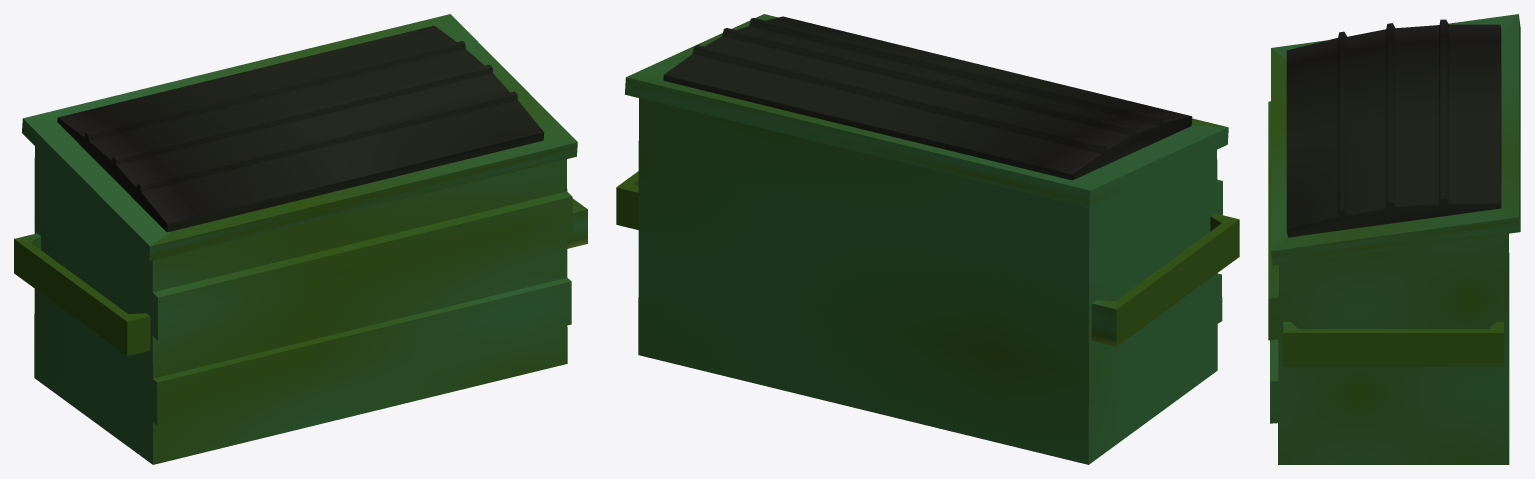
The model's file is BigTrash.fbx.
3 views of the same model, side by side, from view 1: azimuth 30°, elevation 25°; view 2: azimuth 150°, elevation 25°; view 3: azimuth 270°, elevation 25° (orthographic). The views are drawn at different scales.
Parts seen in each view (by area): view 1: BigTrash, BigTrash_Cover; view 2: BigTrash, BigTrash_Cover; view 3: BigTrash, BigTrash_Cover.
Boxes of the visible parts, <box> form: BigTrash: <box>14,14,587,464</box>; BigTrash_Cover: <box>57,25,544,232</box>; BigTrash: <box>616,14,1239,464</box>; BigTrash_Cover: <box>663,16,1192,180</box>; BigTrash: <box>1268,14,1520,464</box>; BigTrash_Cover: <box>1286,19,1501,237</box>.
Bounding box in the file's own units: 153 × 83.73 × 74.41.
